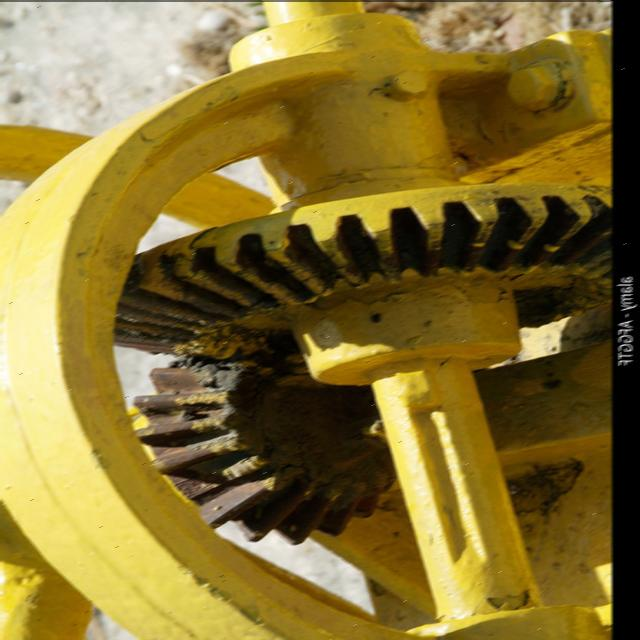Bolt: (504, 66, 554, 108), (385, 68, 434, 96)
Gear: (107, 178, 608, 355), (128, 332, 394, 544)
